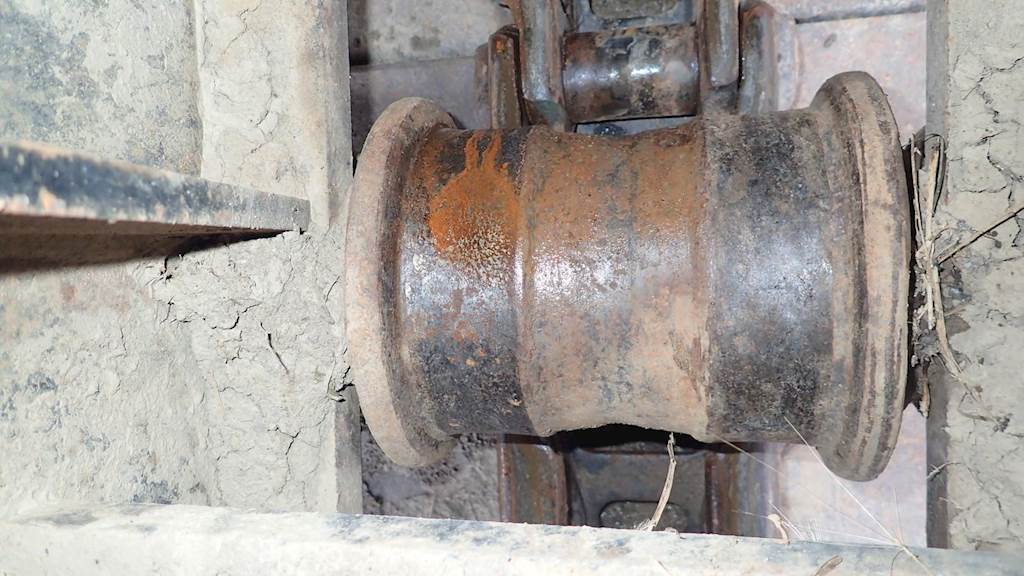Low: (411, 100, 714, 277)
